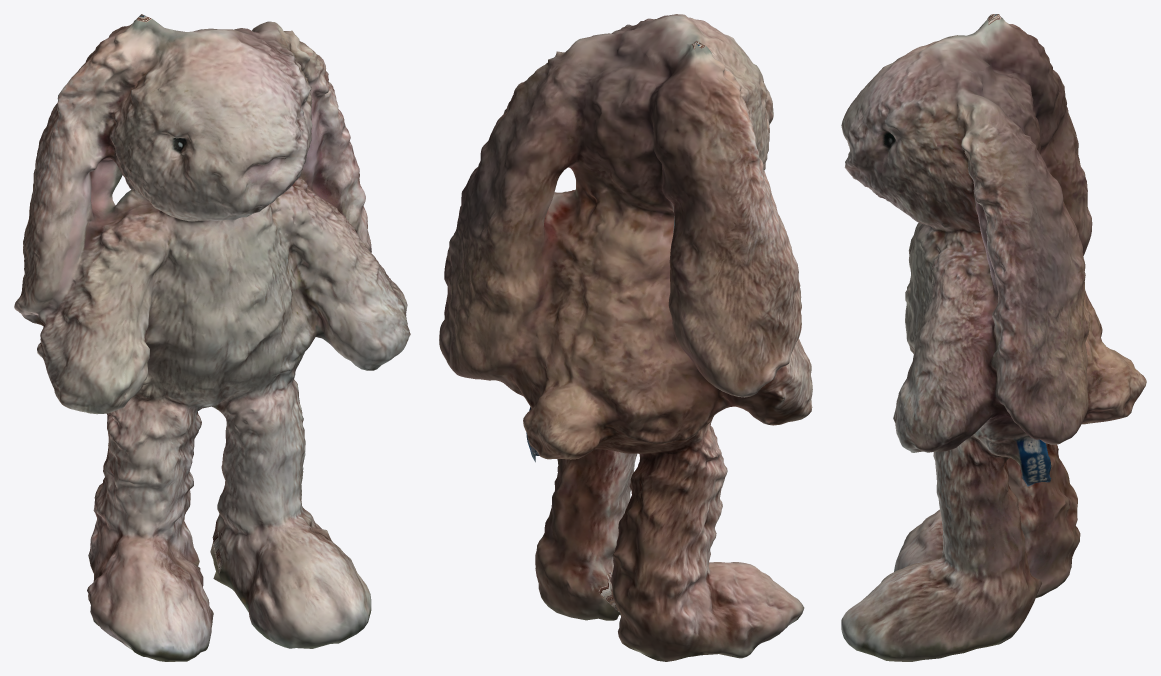
Rendered from Bunny.fbx.
The picture shows the model from 3 angles, left to right: view 1: azimuth 30°, elevation 25°; view 2: azimuth 150°, elevation 25°; view 3: azimuth 270°, elevation 25°; orthographic projection. The views are drawn at different scales.
Visible parts, largest first — view 1: Object; view 2: Object; view 3: Object.
Part boxes in pixels (<box>): Object: <box>14,14,410,661</box>; Object: <box>439,14,812,661</box>; Object: <box>841,14,1146,661</box>.
Size of the model in its own units: 53.02 by 89.9 by 42.69.
